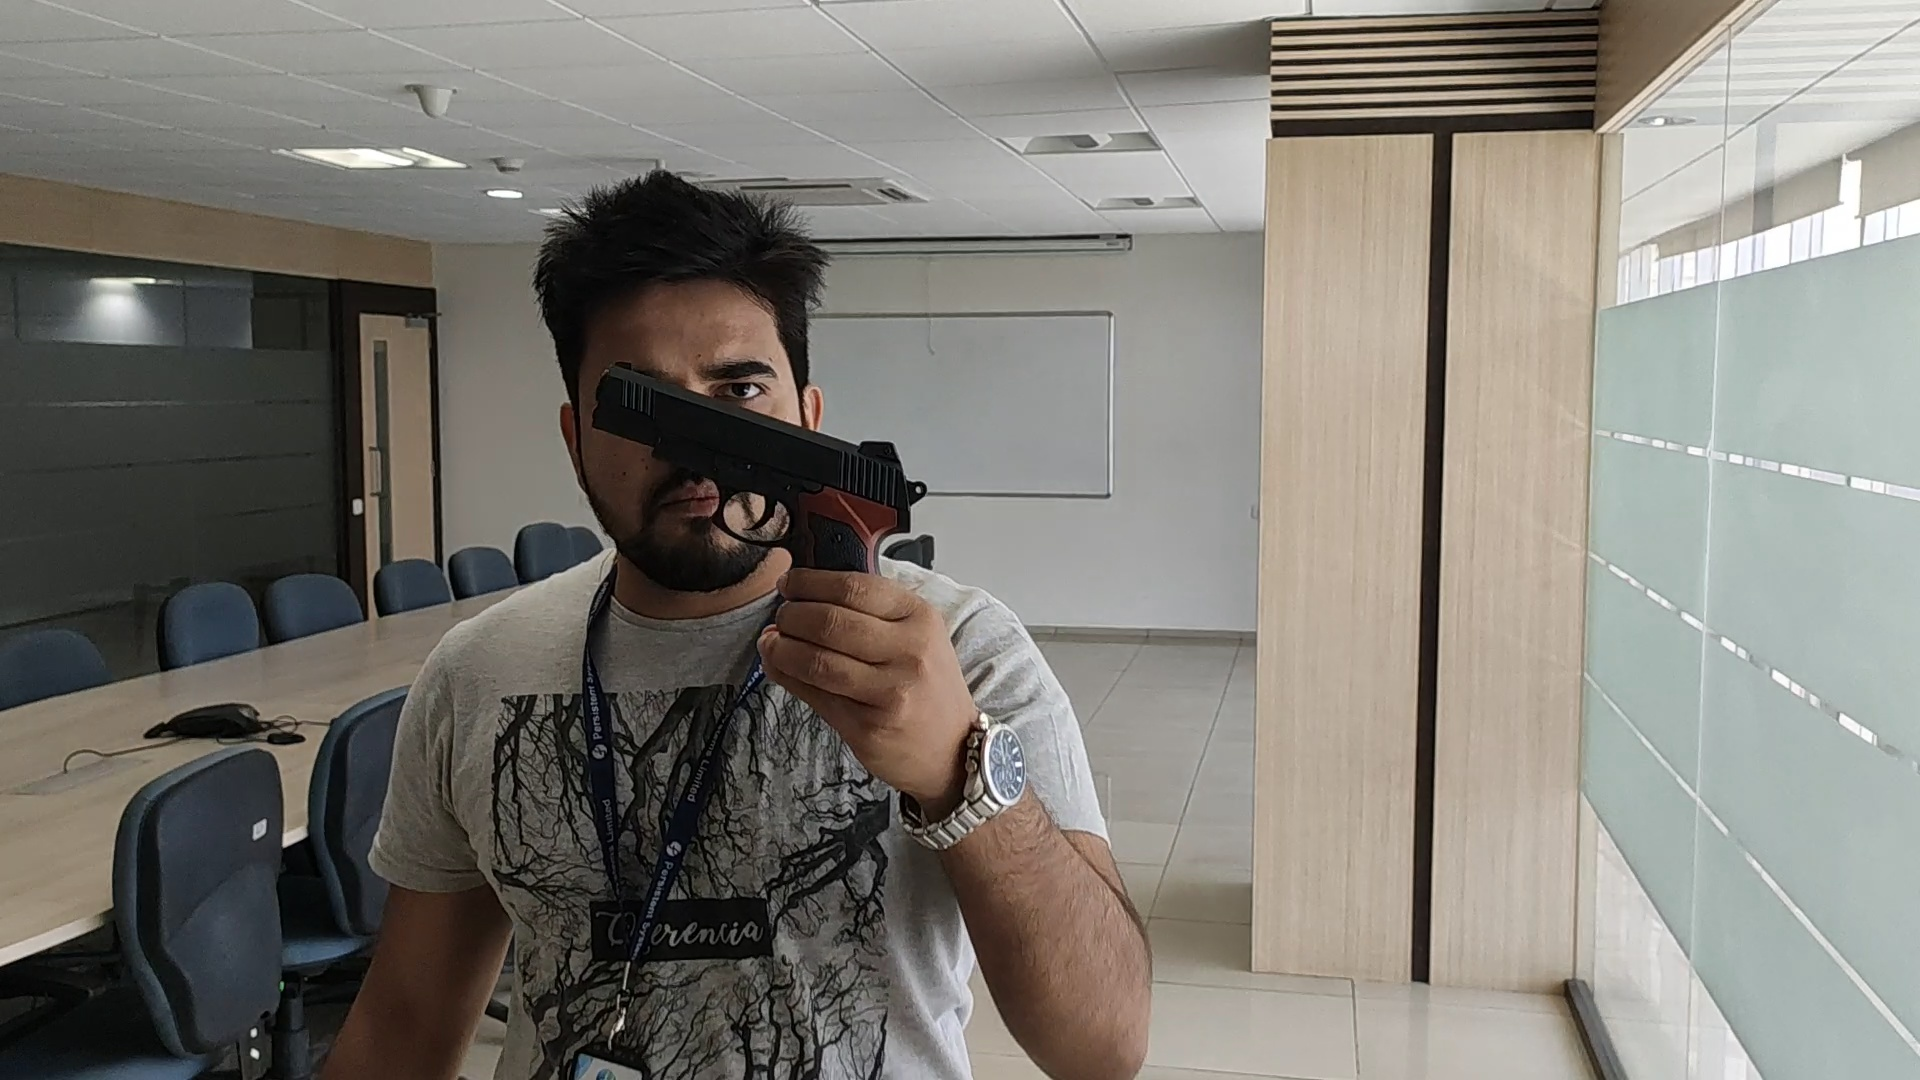gun: (589, 360, 928, 568)
